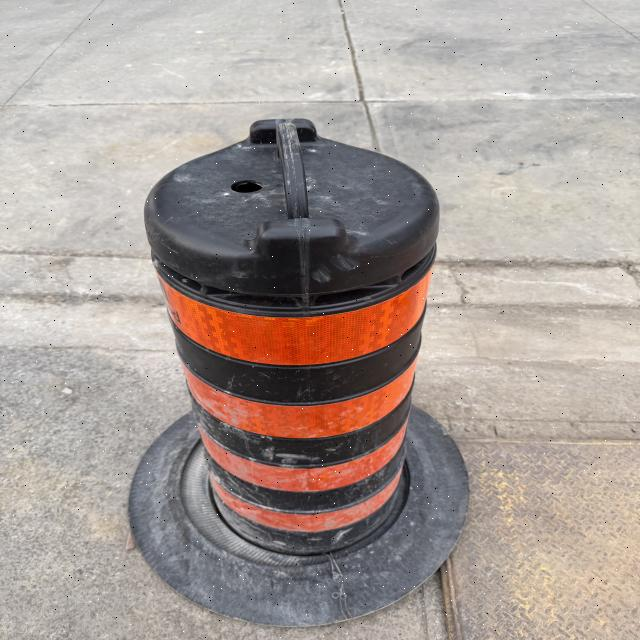Teraffic Barrel: (130, 120, 468, 626), (146, 120, 438, 554)
